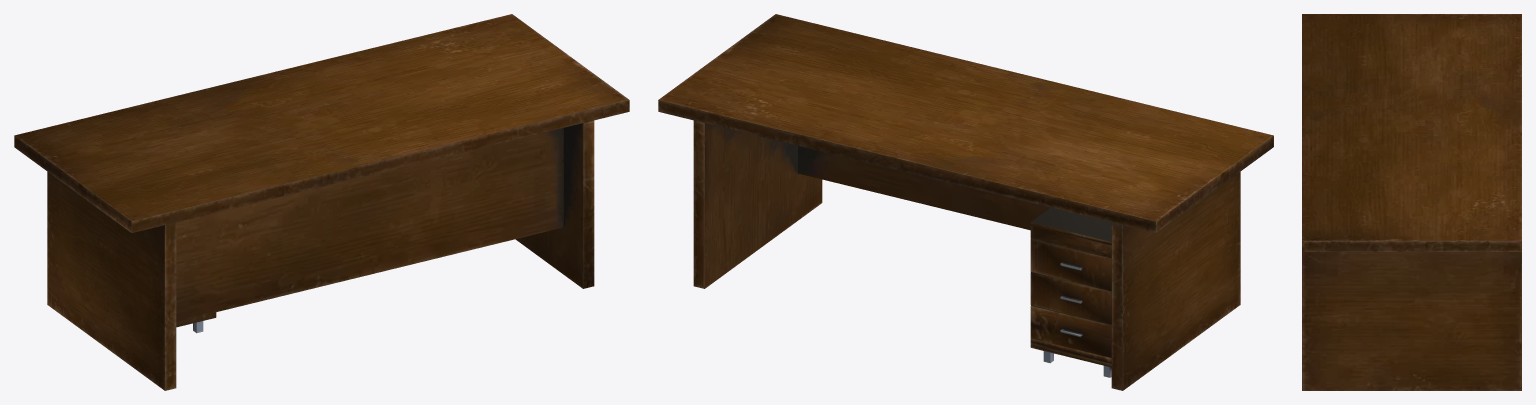
Rendered from desk.glb.
3 renders of one model, left to right at view 1: azimuth 30°, elevation 25°; view 2: azimuth 150°, elevation 25°; view 3: azimuth 270°, elevation 25°, orthographic. The views are drawn at different scales.
Visible parts, largest first — view 1: scene_2__0; view 2: scene_2__0; view 3: scene_2__0.
Boxes of the visible parts, <box> form: scene_2__0: <box>14,14,629,390</box>; scene_2__0: <box>658,14,1273,390</box>; scene_2__0: <box>1302,14,1521,390</box>.
Bounding box in the file's own units: 2 × 0.6885 × 0.8182.
1 material, 1 textured.
